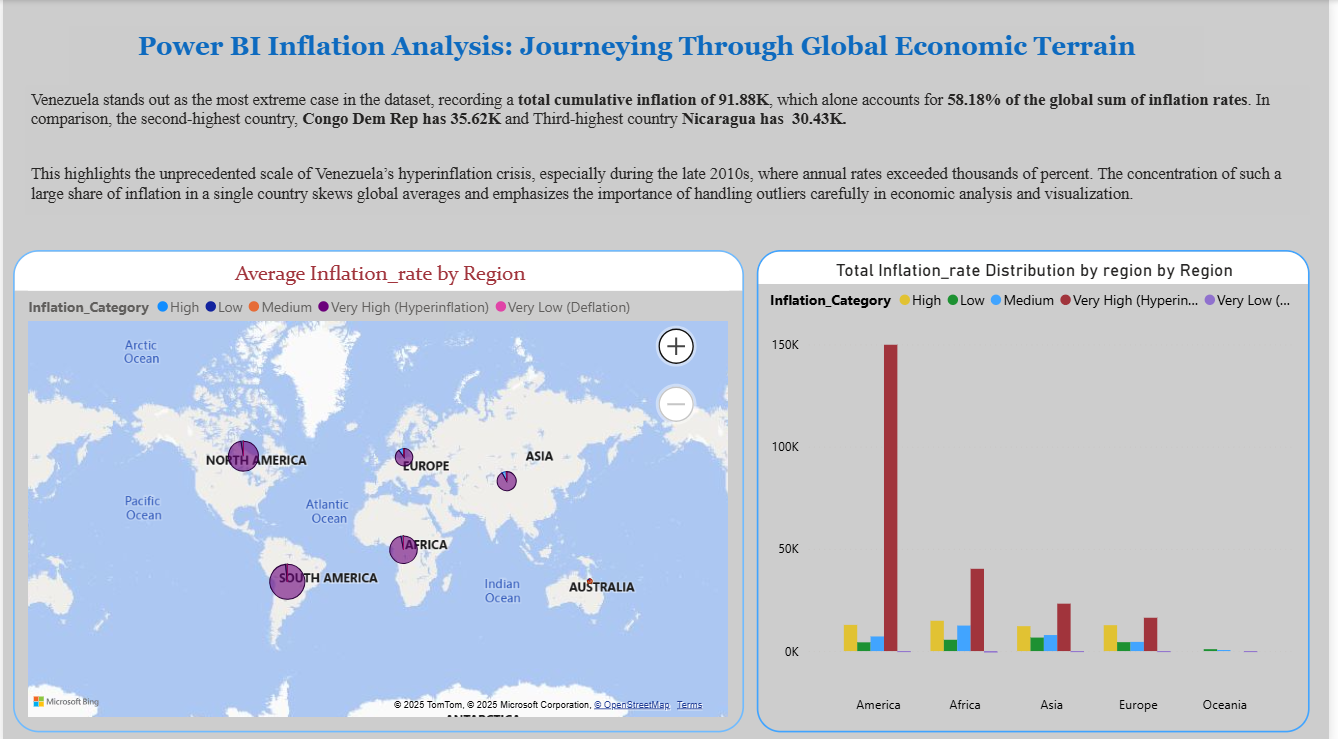

The page's visual inventory and layout, read from the dashboard file:
{"tool":"powerbi","page":{"name":"Overview","canvas":[1280,720],"ordinal":1},"visuals":[{"type":"map","title":"Average Inflation_rate by Region","fields":{"Size":["Avg(Fact_inflation_data.Inflation_rate)"],"Category":["Dim_Region.Region_ Hierarchy.Region_","Dim_Region.Region_ Hierarchy.country_name"],"Series":["Fact_inflation_data.Inflation_Category"]},"box":[9.7,241.3,705.8,465.7],"z":0},{"type":"textbox","box":[21.7,82,1239,125.5],"z":1000},{"type":"textbox","box":[63.9,25.3,1095.4,56.7],"z":2000},{"type":"clusteredColumnChart","title":"Total  Inflation_rate Distribution by region by Region ","fields":{"Series":["Fact_inflation_data.Inflation_Category"],"Y":["Sum(Fact_inflation_data.Inflation_rate)"],"Category":["Dim_Region.Region"]},"box":[727.5,241.3,533.2,465.7],"z":3000}]}

Visuals, with their boxes in screenshot pixels (x1, y1, x2, y2), scaled from the page's 1280x720 canvas onto the 1338x739 screenshot:
"Average Inflation_rate by Region" map: bbox=[10, 248, 748, 726]
textbox: bbox=[23, 84, 1318, 213]
textbox: bbox=[67, 26, 1212, 84]
"Total  Inflation_rate Distribution by region by Region " clusteredColumnChart: bbox=[760, 248, 1318, 726]
